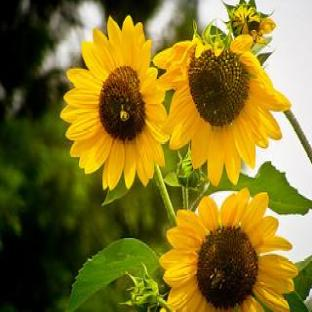sunflower: (152, 23, 312, 186), (60, 16, 176, 228)
